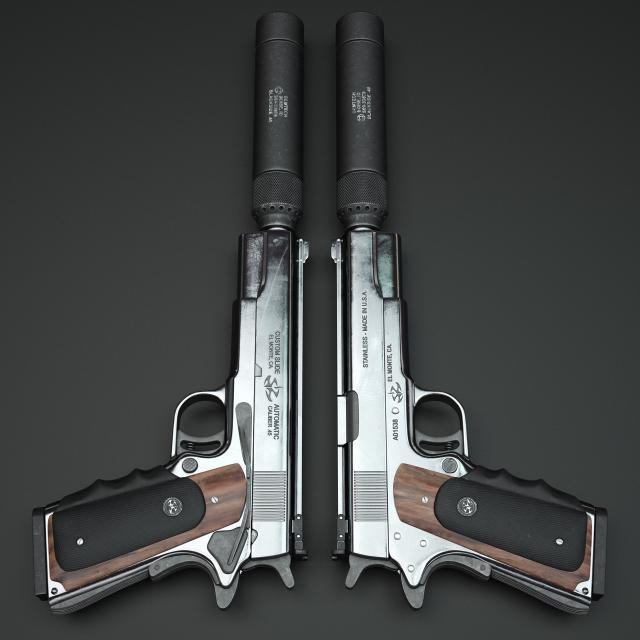handgun: (337, 17, 607, 619), (33, 17, 303, 607)
